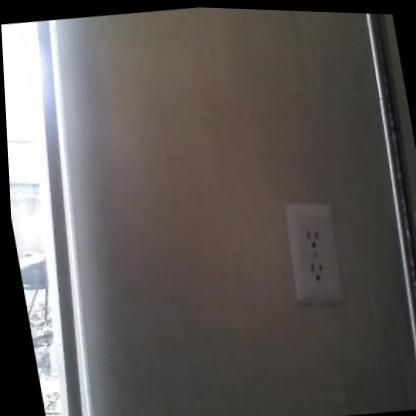OUTLET: (282, 202, 348, 305)
